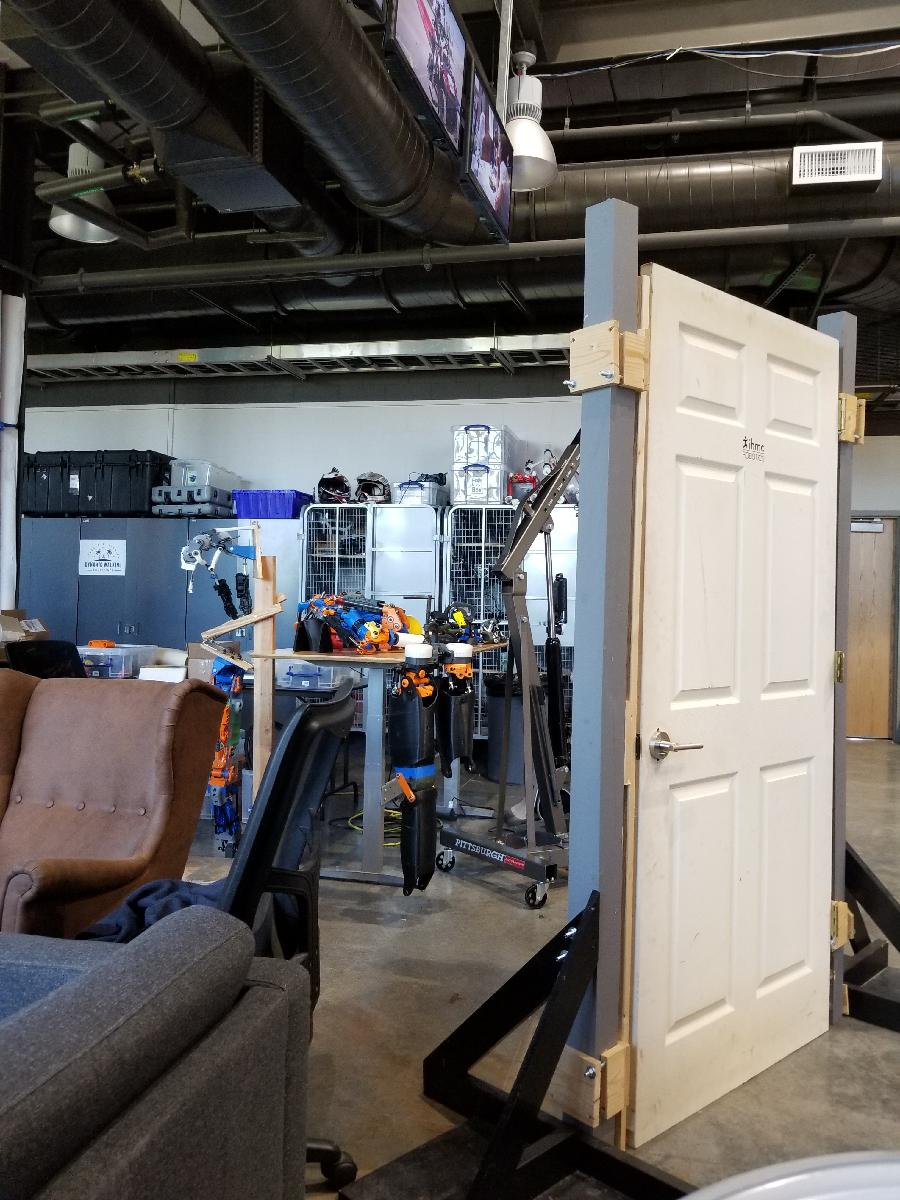door: (620, 256, 848, 1163)
doorHandle: (639, 727, 707, 766)
